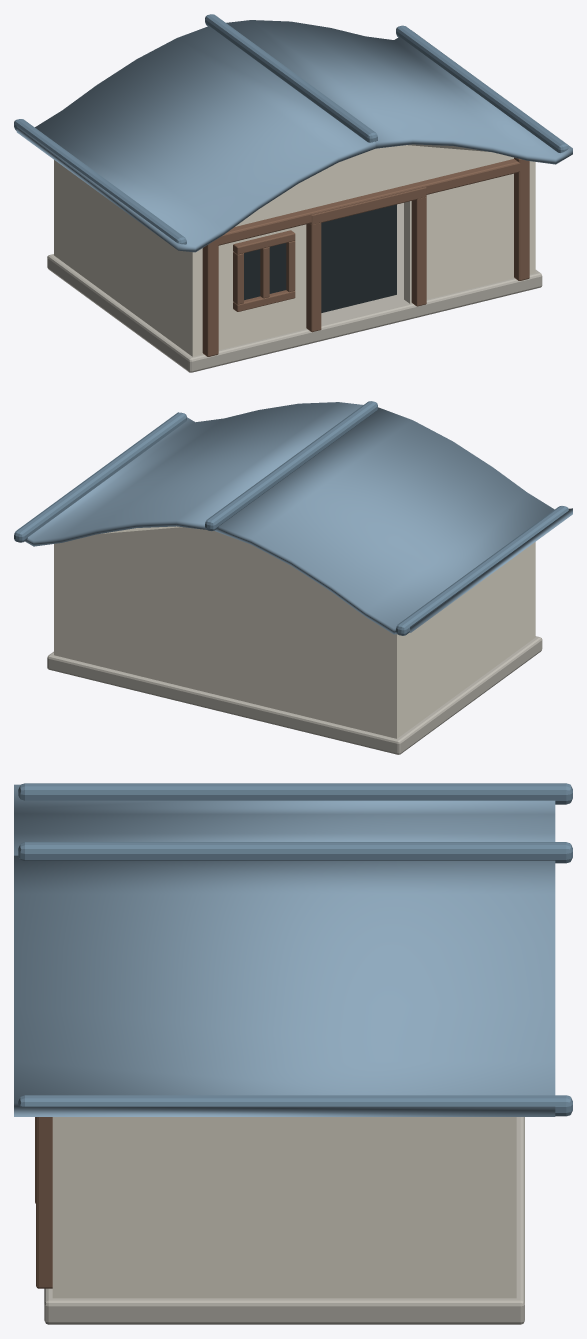
The model's file is cottage_demo.glb.
3 renders of one model, top to bottom at view 1: azimuth 30°, elevation 25°; view 2: azimuth 150°, elevation 25°; view 3: azimuth 270°, elevation 25°, orthographic. The views are drawn at different scales.
Parts seen in each view (by area): view 1: RoofLeft, RoofRight, LeftWall, FrontWallRight, SunkenPlinth, FrontGable, InteriorShadow, FrontWallLeft, FrontTieBeam, RidgeCap, EaveRim.001, EaveRim (+11 smaller); view 2: BackWall, RoofLeft, RoofRight, LeftWall, SunkenPlinth, BackGable, RidgeCap, EaveRim.001, EaveRim; view 3: RoofRight, RightWall, RoofLeft, SunkenPlinth, RidgeCap, EaveRim, EaveRim.001, FrontWallRight, BackWall, FrontPost.001.
Boxes of the visible parts, box(x1,y1,x2,y2) form: RoofLeft: box(16, 26, 375, 252); RoofRight: box(226, 20, 572, 164); LeftWall: box(54, 160, 202, 356); FrontWallRight: box(404, 161, 535, 303); SunkenPlinth: box(47, 203, 542, 372); FrontGable: box(235, 145, 513, 226); InteriorShadow: box(321, 204, 396, 312); FrontWallLeft: box(186, 224, 306, 355); FrontTieBeam: box(212, 159, 526, 246); RidgeCap: box(205, 14, 377, 142); EaveRim.001: box(396, 25, 568, 152); EaveRim: box(14, 119, 186, 244); BackWall: box(54, 540, 402, 738); RoofLeft: box(214, 407, 572, 634); RoofRight: box(22, 402, 362, 546); LeftWall: box(390, 542, 535, 738); SunkenPlinth: box(47, 636, 542, 754); BackGable: box(73, 527, 354, 608); RidgeCap: box(205, 401, 377, 531); EaveRim.001: box(14, 412, 186, 542); EaveRim: box(396, 506, 568, 635); RoofRight: box(14, 855, 555, 1116); RightWall: box(52, 1117, 516, 1298); RoofLeft: box(14, 784, 555, 855); SunkenPlinth: box(44, 1117, 524, 1324); RidgeCap: box(18, 842, 572, 863); EaveRim: box(18, 783, 572, 804); EaveRim.001: box(18, 1095, 572, 1116); FrontWallRight: box(52, 1117, 72, 1298); BackWall: box(496, 1117, 516, 1298); FrontPost.001: box(36, 1117, 52, 1288).
Bounding box in the file's own units: 6.9 × 3.38 × 5.06.
